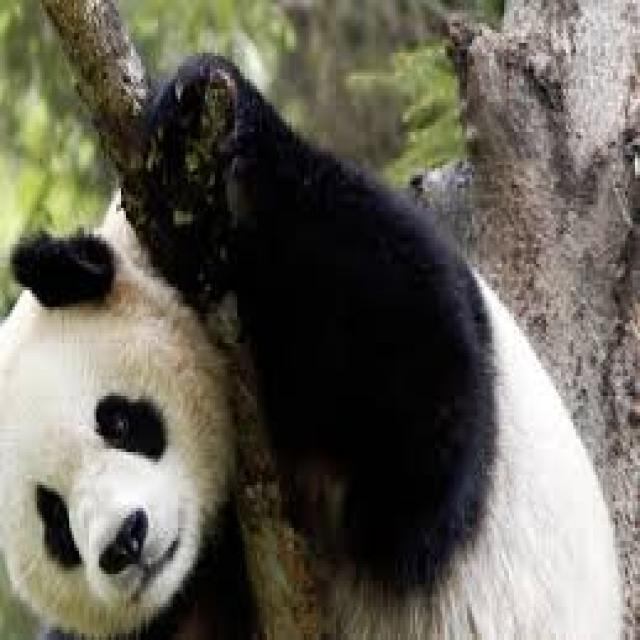Panda: (0, 66, 609, 640)
